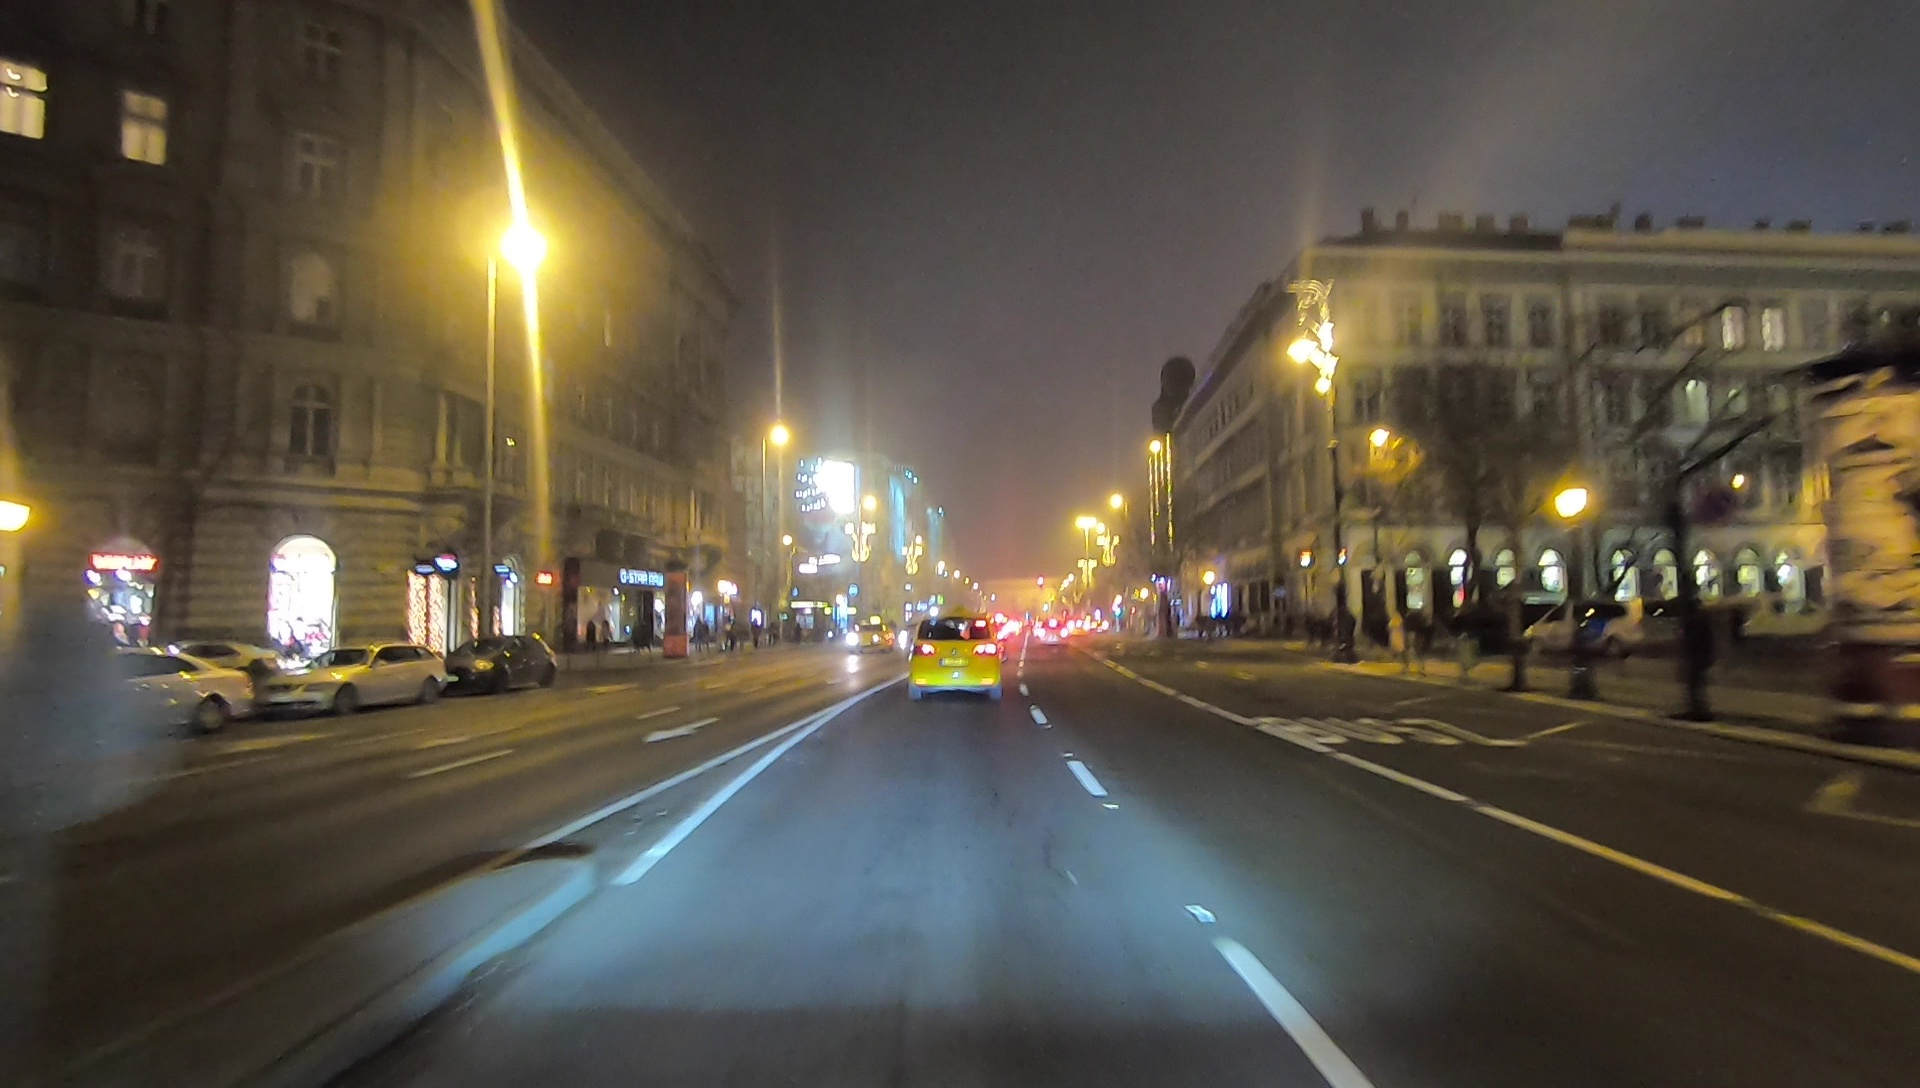person: (749, 619, 764, 656), (693, 613, 704, 652), (584, 619, 595, 652), (601, 619, 610, 650)
